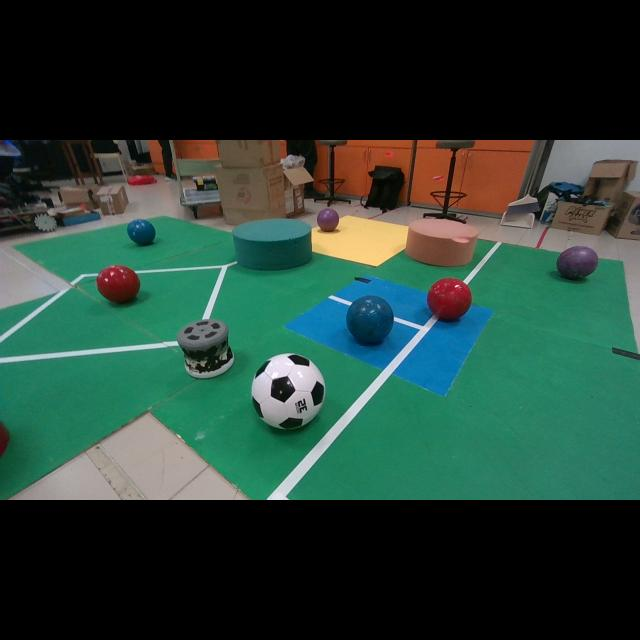B: (348, 295, 394, 342), (128, 219, 155, 246)
P: (556, 246, 599, 280), (318, 209, 339, 231)
R: (428, 278, 471, 319), (96, 265, 140, 303)
